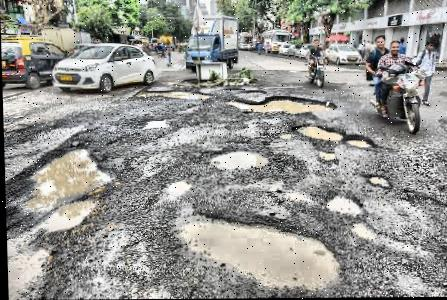pothole: (172, 211, 340, 292), (5, 144, 113, 232), (5, 236, 52, 299), (223, 93, 336, 116), (208, 147, 267, 172), (292, 122, 342, 142), (135, 88, 211, 101), (326, 194, 361, 216), (348, 222, 376, 240), (344, 134, 372, 150), (365, 173, 390, 190), (140, 117, 167, 130), (163, 180, 190, 192), (315, 150, 336, 160)
